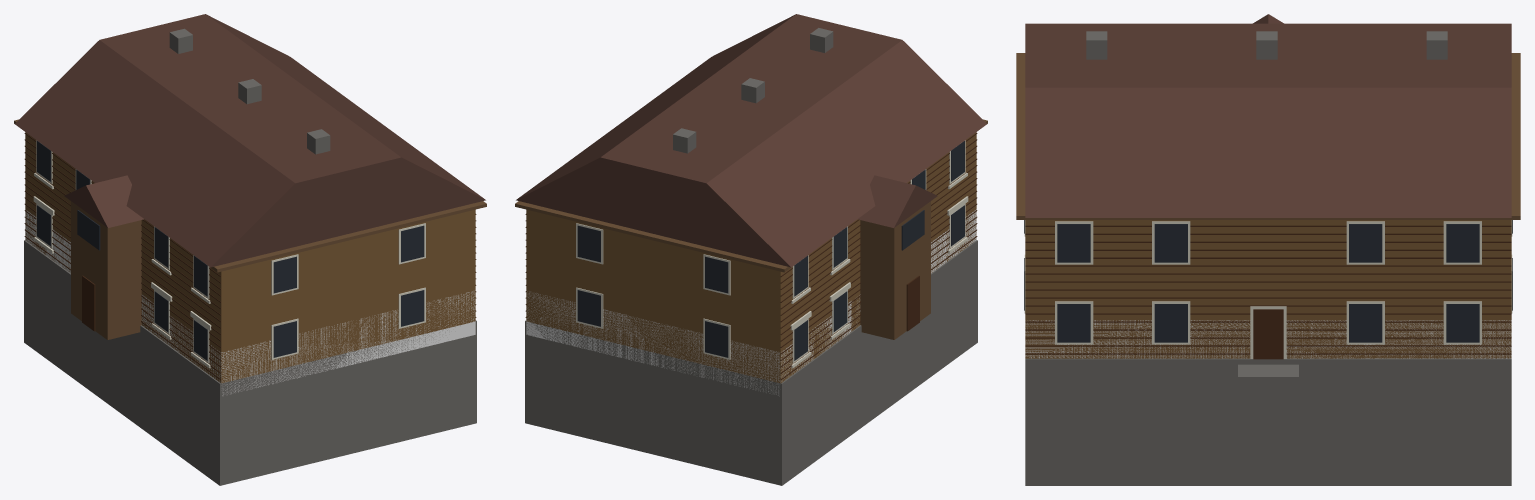
File: house-wood-2.glb
3 views of the same model, side by side, from view 1: azimuth 30°, elevation 25°; view 2: azimuth 150°, elevation 25°; view 3: azimuth 270°, elevation 25° (orthographic). The views are drawn at different scales.
Visible parts, largest first — view 1: 06_#5a4038, 00_#6e6c68, 01_#7a5c3a, 05_#6a5038, solid, 04_#2e333b, 02_#4a3020, 03_#d8d4c4; view 2: 06_#5a4038, 00_#6e6c68, 01_#7a5c3a, 05_#6a5038, solid, 04_#2e333b, 02_#4a3020, 03_#d8d4c4; view 3: 06_#5a4038, 00_#6e6c68, 01_#7a5c3a, 02_#4a3020, 04_#2e333b, solid, 03_#d8d4c4, 05_#6a5038.
Part boxes in pixels (x1,y1,x2,y2): 06_#5a4038: [15, 14, 485, 267]; 00_#6e6c68: [24, 28, 476, 485]; 01_#7a5c3a: [25, 132, 475, 383]; 05_#6a5038: [14, 119, 486, 339]; solid: [25, 210, 475, 395]; 04_#2e333b: [37, 141, 424, 360]; 02_#4a3020: [24, 133, 476, 379]; 03_#d8d4c4: [33, 140, 425, 368]; 06_#5a4038: [516, 14, 986, 267]; 00_#6e6c68: [525, 28, 977, 485]; 01_#7a5c3a: [526, 132, 976, 383]; 05_#6a5038: [515, 119, 987, 339]; solid: [526, 209, 976, 396]; 04_#2e333b: [577, 141, 964, 360]; 02_#4a3020: [525, 133, 977, 379]; 03_#d8d4c4: [576, 140, 968, 368]; 06_#5a4038: [1025, 14, 1511, 217]; 00_#6e6c68: [1025, 31, 1511, 485]; 01_#7a5c3a: [1025, 220, 1511, 358]; 02_#4a3020: [1025, 225, 1511, 359]; 04_#2e333b: [1024, 220, 1512, 342]; solid: [1025, 320, 1511, 358]; 03_#d8d4c4: [1024, 220, 1512, 358]; 05_#6a5038: [1016, 53, 1520, 219].
Bounding box in the file's own units: 14.75 × 13.5 × 16.6.
